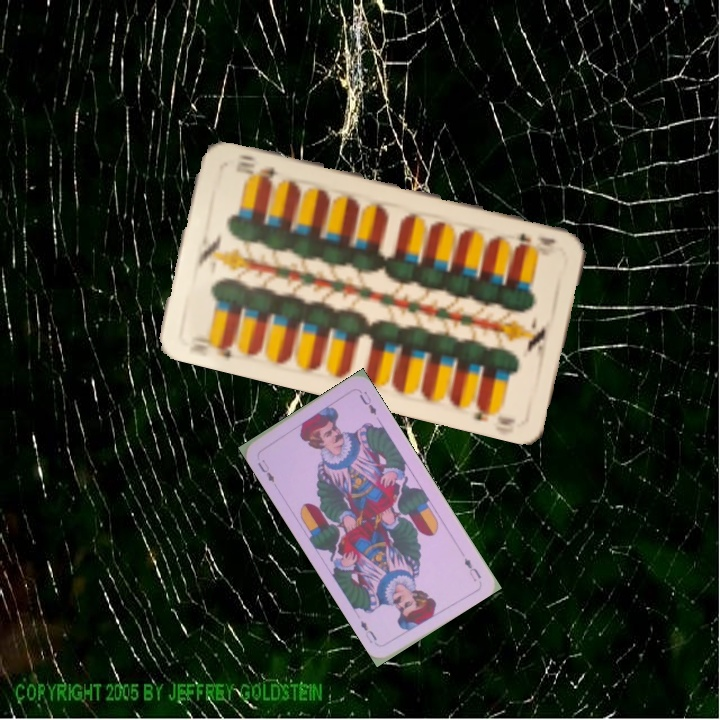E10: (190, 335, 236, 362), (515, 228, 559, 249)
EU: (253, 455, 277, 485), (460, 554, 484, 584)
